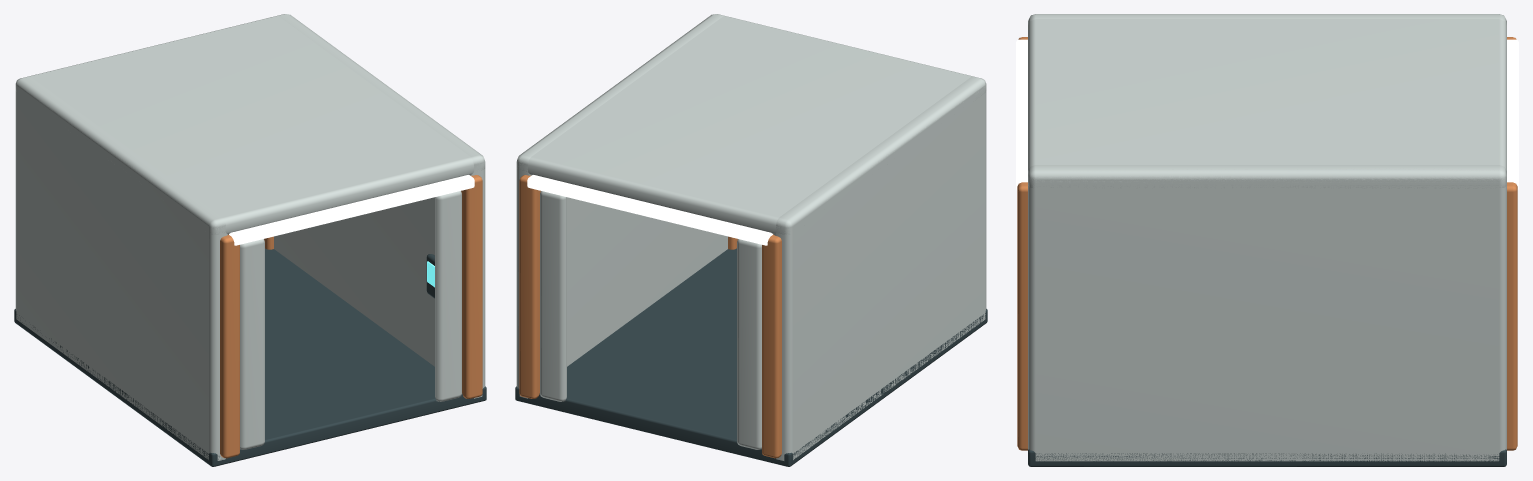
The model's file is eva01-airlock.glb.
The picture shows the model from 3 angles, left to right: view 1: azimuth 30°, elevation 25°; view 2: azimuth 150°, elevation 25°; view 3: azimuth 270°, elevation 25°; orthographic projection. The views are drawn at different scales.
Visible parts, largest first — view 1: Esclusa / techo, Esclusa / pared lateral, Esclusa / suelo, Esclusa / pared lateral.001, Puerta abierta en alojamiento.001, Puerta abierta en alojamiento, Marco de paso.001, Marco de paso, Luz de esclusa; view 2: Esclusa / techo, Esclusa / pared lateral, Esclusa / suelo, Esclusa / pared lateral.001, Puerta abierta en alojamiento.003, Puerta abierta en alojamiento.002, Marco de paso.003, Marco de paso.002, Luz de esclusa.001; view 3: Esclusa / pared lateral.001, Esclusa / techo, Esclusa / suelo, Marco de paso.001, Marco de paso.003, Esclusa / pared lateral, Luz de esclusa, Luz de esclusa.001.
Part boxes in pixels (bbox=[...]): Esclusa / techo: bbox=[15, 16, 485, 234]; Esclusa / pared lateral: bbox=[15, 76, 227, 460]; Esclusa / suelo: bbox=[14, 248, 486, 466]; Esclusa / pared lateral.001: bbox=[274, 14, 485, 398]; Puerta abierta en alojamiento.001: bbox=[435, 191, 461, 401]; Puerta abierta en alojamiento: bbox=[240, 239, 264, 449]; Marco de paso.001: bbox=[461, 175, 482, 398]; Marco de paso: bbox=[220, 234, 239, 458]; Luz de esclusa: bbox=[229, 175, 474, 245]; Esclusa / techo: bbox=[517, 16, 986, 234]; Esclusa / pared lateral: bbox=[774, 76, 986, 460]; Esclusa / suelo: bbox=[515, 248, 987, 466]; Esclusa / pared lateral.001: bbox=[516, 14, 727, 398]; Puerta abierta en alojamiento.003: bbox=[540, 191, 566, 401]; Puerta abierta en alojamiento.002: bbox=[737, 239, 761, 449]; Marco de paso.003: bbox=[519, 175, 540, 398]; Marco de paso.002: bbox=[762, 234, 781, 458]; Luz de esclusa.001: bbox=[527, 175, 772, 245]; Esclusa / pared lateral.001: bbox=[1028, 165, 1506, 461]; Esclusa / techo: bbox=[1028, 19, 1506, 188]; Esclusa / suelo: bbox=[1028, 449, 1506, 466]; Marco de paso.001: bbox=[1017, 182, 1027, 450]; Marco de paso.003: bbox=[1507, 182, 1517, 450]; Esclusa / pared lateral: bbox=[1028, 14, 1506, 25]; Luz de esclusa: bbox=[1016, 39, 1027, 190]; Luz de esclusa.001: bbox=[1507, 39, 1518, 190].
Bounding box in the file's own units: 4 × 3.4 × 5.25.
